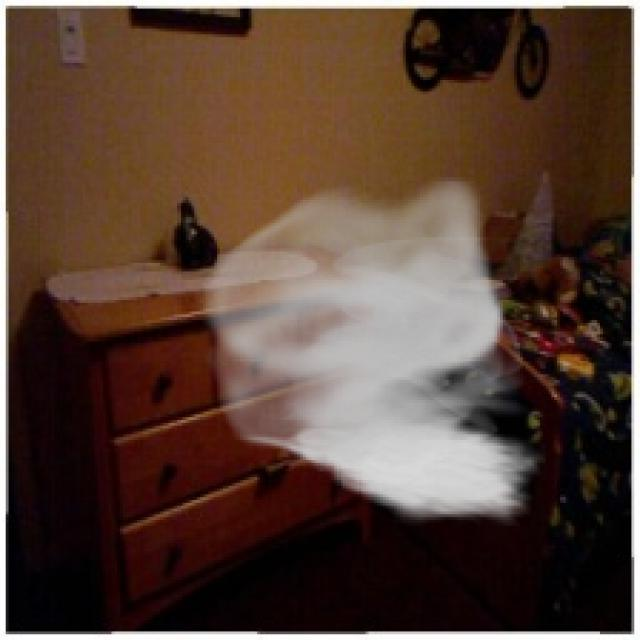Smoke: (191, 177, 546, 526)
